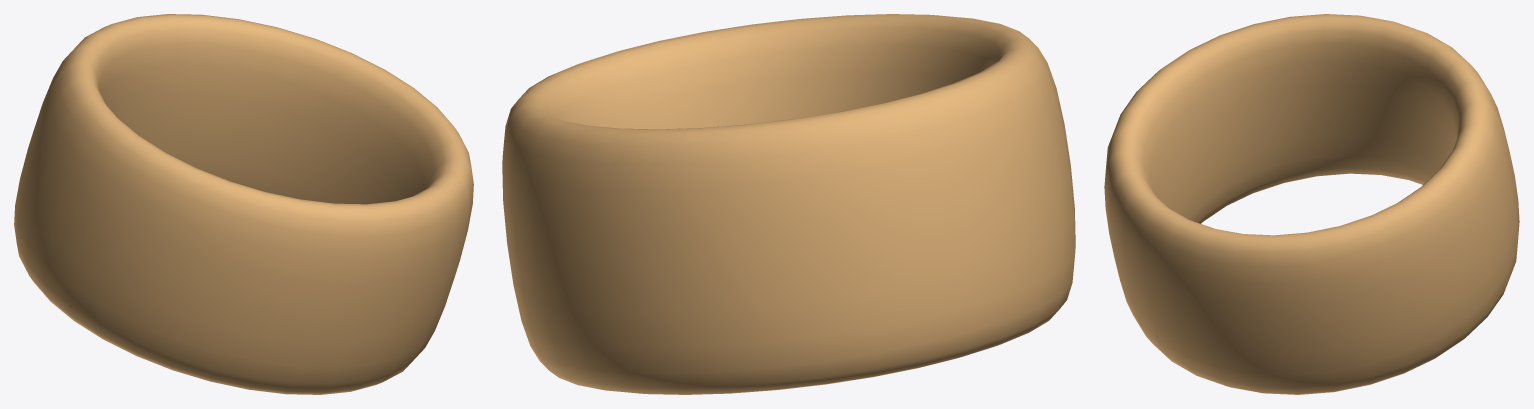
File: earings5.glb
The picture shows the model from 3 angles, left to right: view 1: azimuth 30°, elevation 25°; view 2: azimuth 150°, elevation 25°; view 3: azimuth 270°, elevation 25°; orthographic projection. The views are drawn at different scales.
Parts seen in each view (by area): view 1: earrings.005; view 2: earrings.005; view 3: earrings.005.
Part boxes in pixels (bbox=[...]): earrings.005: bbox=[14, 14, 473, 394]; earrings.005: bbox=[502, 14, 1075, 394]; earrings.005: bbox=[1104, 14, 1519, 394].
Size of the model in its own units: 0.1596 by 0.1073 by 0.1581.
Materials: 1 (1 with a texture image).
